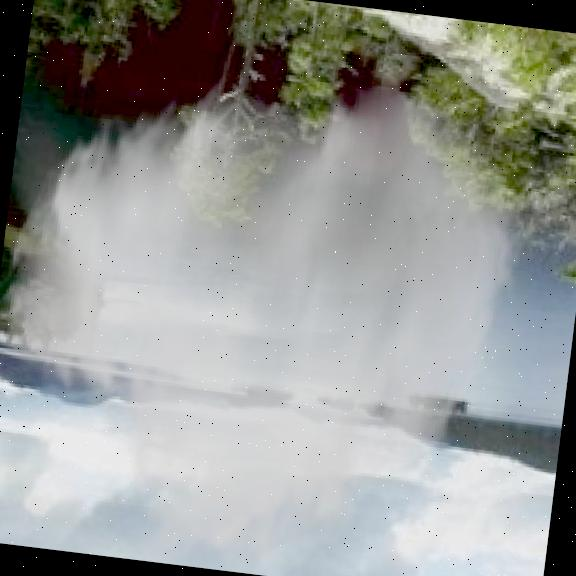smoke: (0, 37, 545, 576)
